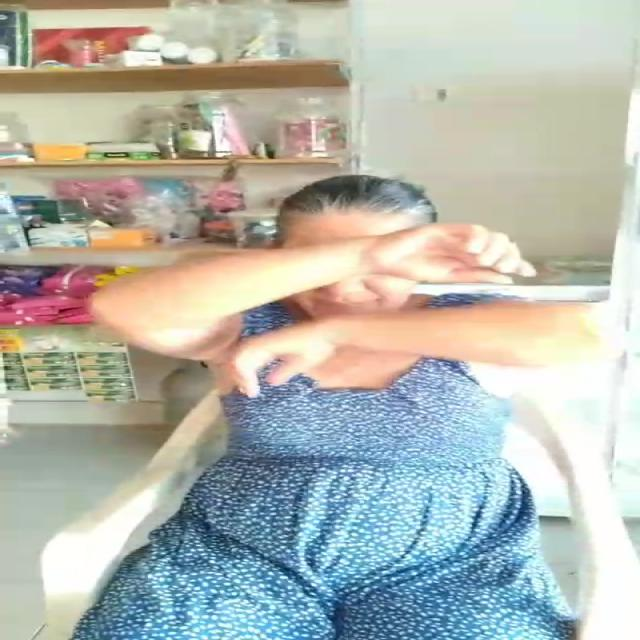7_mano_rostro: (271, 222, 497, 327)
